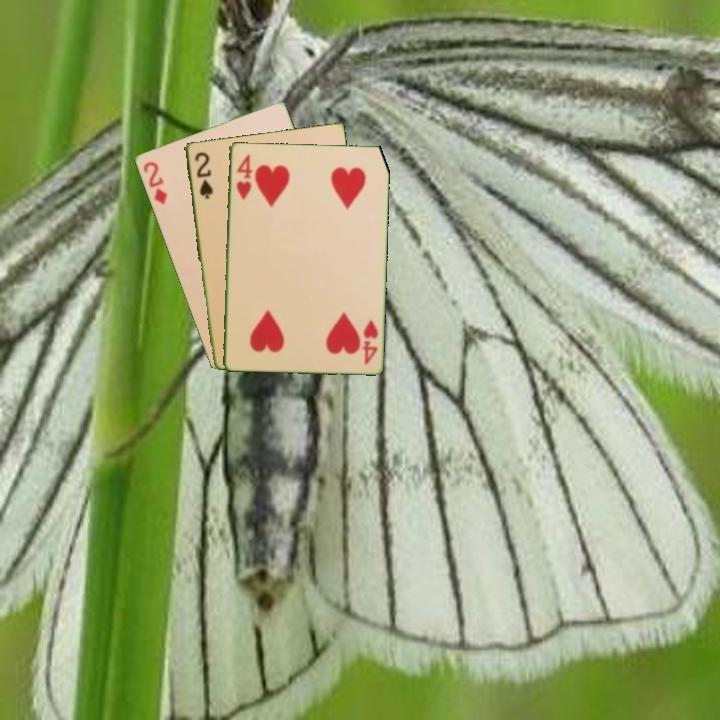2d: (139, 158, 170, 207)
2s: (191, 148, 215, 201)
4h: (358, 316, 381, 367), (233, 150, 253, 202)
